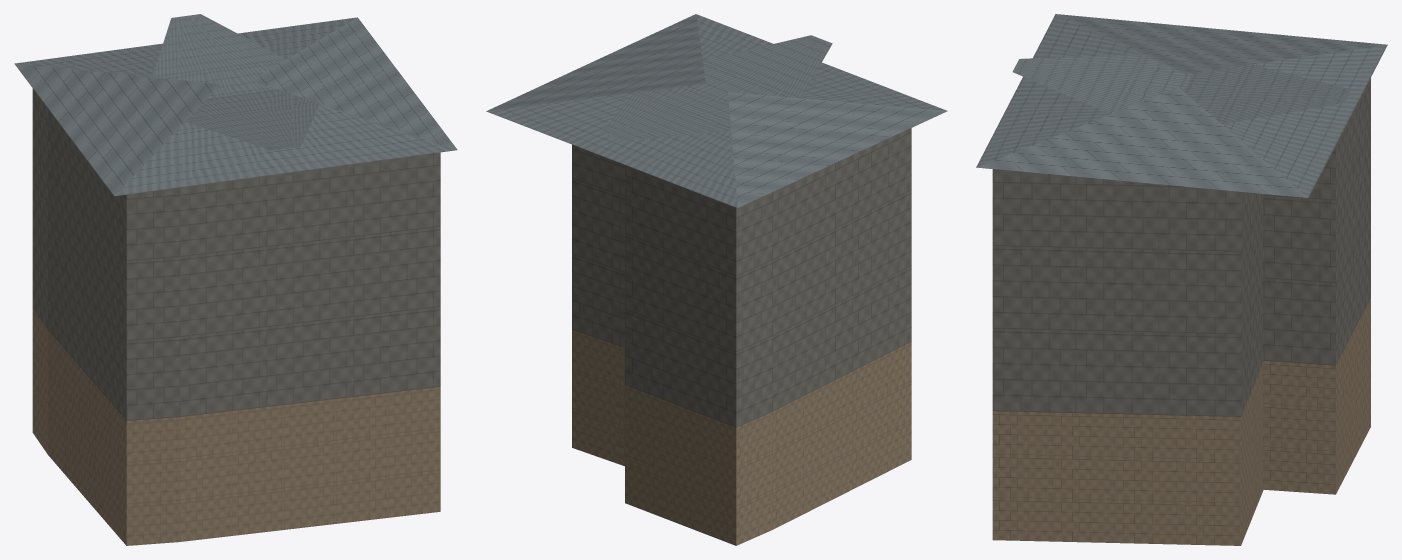
File: bld_c30_-40_470.gltf
3 views of the same model, side by side, from view 1: azimuth 30°, elevation 25°; view 2: azimuth 150°, elevation 25°; view 3: azimuth 270°, elevation 25° (orthographic). The views are drawn at different scales.
Parts seen in each view (by area): view 1: bld_c30_-40_470; view 2: bld_c30_-40_470; view 3: bld_c30_-40_470.
Part boxes in pixels (left/top/right/bottom): bld_c30_-40_470: left=14, top=14, right=457, bottom=545; bld_c30_-40_470: left=486, top=14, right=947, bottom=545; bld_c30_-40_470: left=976, top=14, right=1387, bottom=545.
Bounding box in the file's own units: 15.62 × 15.9 × 14.75.
3 materials, 3 textured.
